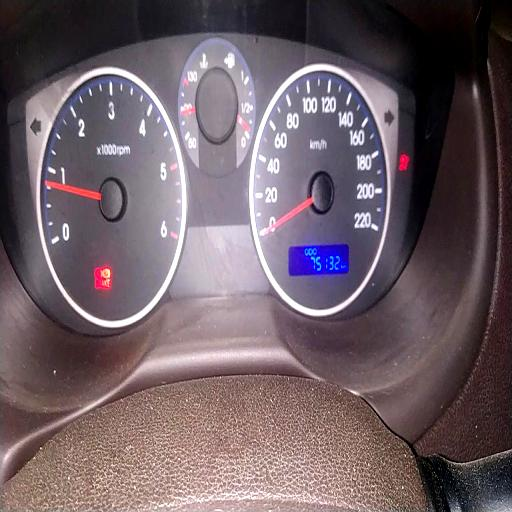tachometer: (36, 63, 188, 330)
